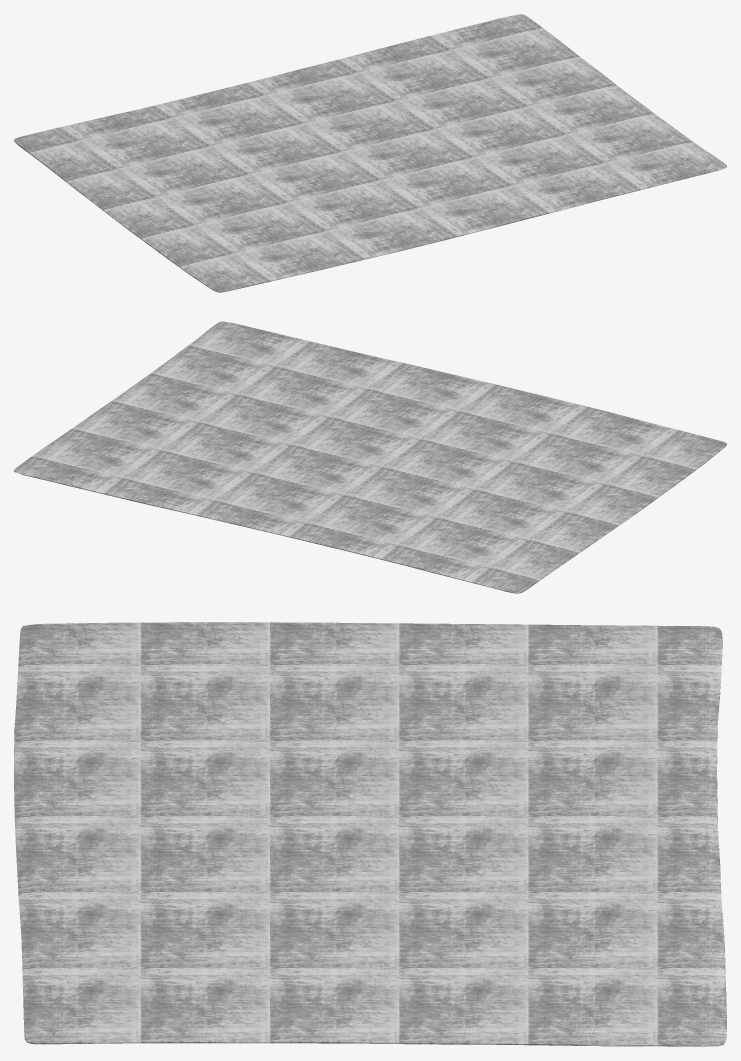
The model's file is carpet_fixed.fbx.
3 views of the same model, one above another, from view 1: azimuth 30°, elevation 25°; view 2: azimuth 150°, elevation 25°; view 3: azimuth 270°, elevation 25° (orthographic). The views are drawn at different scales.
Visible parts, largest first — view 1: GDLM1226_GDLM963_mLayer87_166; view 2: GDLM1226_GDLM963_mLayer87_166; view 3: GDLM1226_GDLM963_mLayer87_166.
Part boxes in pixels (left/top/right/bottom): GDLM1226_GDLM963_mLayer87_166: left=14, top=14, right=726, bottom=292; GDLM1226_GDLM963_mLayer87_166: left=14, top=321, right=726, bottom=593; GDLM1226_GDLM963_mLayer87_166: left=14, top=622, right=726, bottom=1046.
Bounding box in the file's own units: 2.39 × 0.0099 × 1.7.
Materials: 1 (1 with a texture image).
